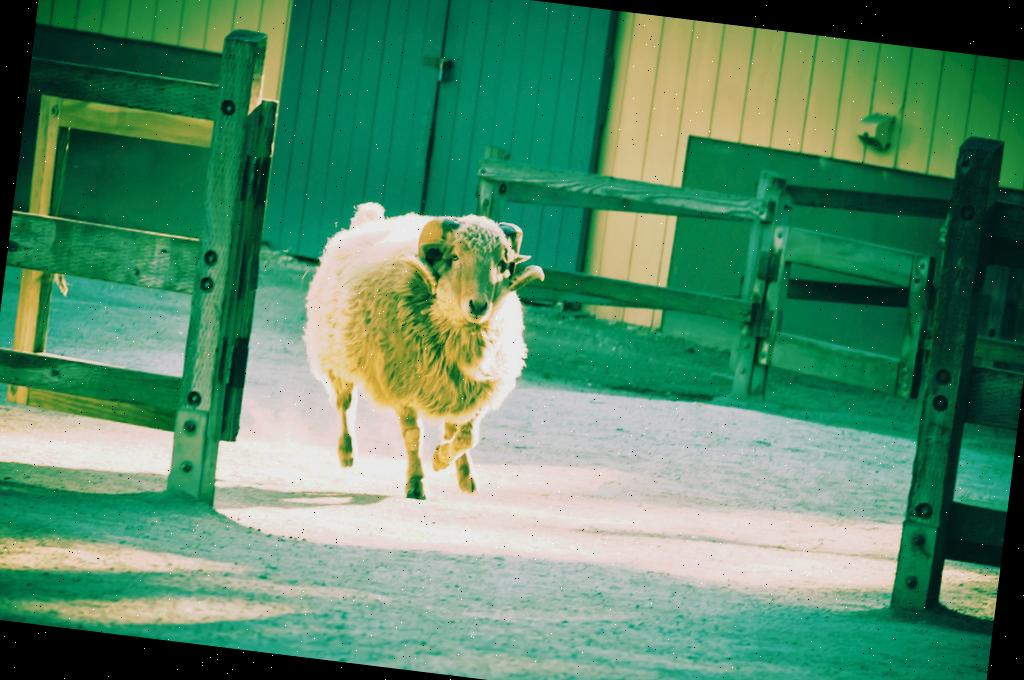Sheep: (274, 189, 561, 510)
